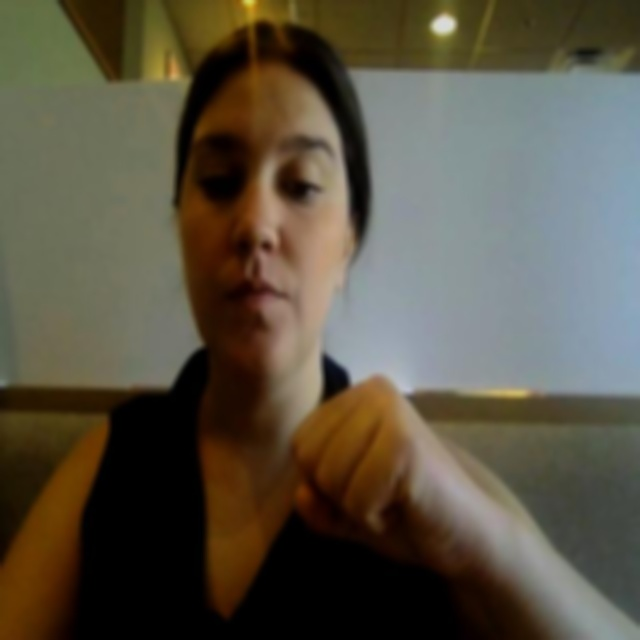Rock: (273, 353, 488, 590)
